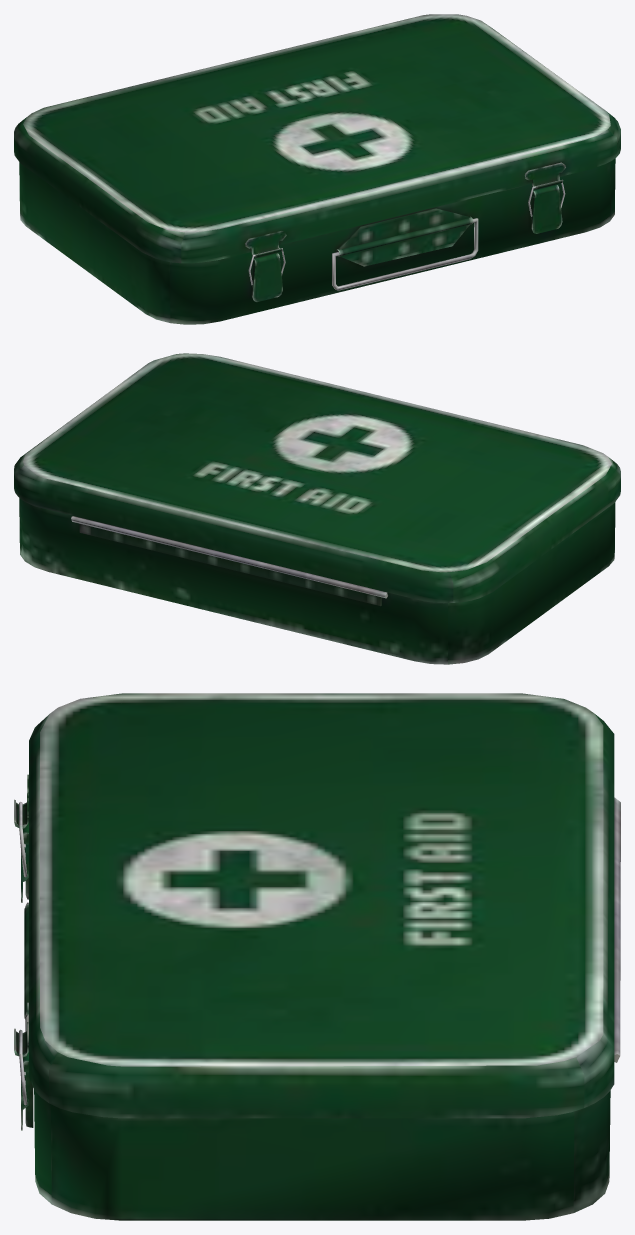
The model's file is medBox.glb.
The picture shows the model from 3 angles, top to bottom: view 1: azimuth 30°, elevation 25°; view 2: azimuth 150°, elevation 25°; view 3: azimuth 270°, elevation 25°; orthographic projection. The views are drawn at different scales.
Parts seen in each view (by area): view 1: medical_box_lid, medical_box, medical_box_latch, medical_box_handle; view 2: medical_box_lid, medical_box; view 3: medical_box_lid, medical_box.
Boxes of the visible parts, x1=… form: medical_box_lid: x1=14, y1=14, x2=620, y2=263; medical_box: x1=19, y1=158, x2=615, y2=324; medical_box_latch: x1=251, y1=185, x2=562, y2=301; medical_box_handle: x1=332, y1=218, x2=478, y2=290; medical_box_lid: x1=14, y1=353, x2=620, y2=603; medical_box: x1=19, y1=498, x2=615, y2=664; medical_box_lid: x1=14, y1=693, x2=614, y2=1118; medical_box: x1=24, y1=797, x2=620, y2=1220.
Bounding box in the file's own units: 0.5255 × 0.0967 × 0.3501.
Materials: 1 (1 with a texture image).
